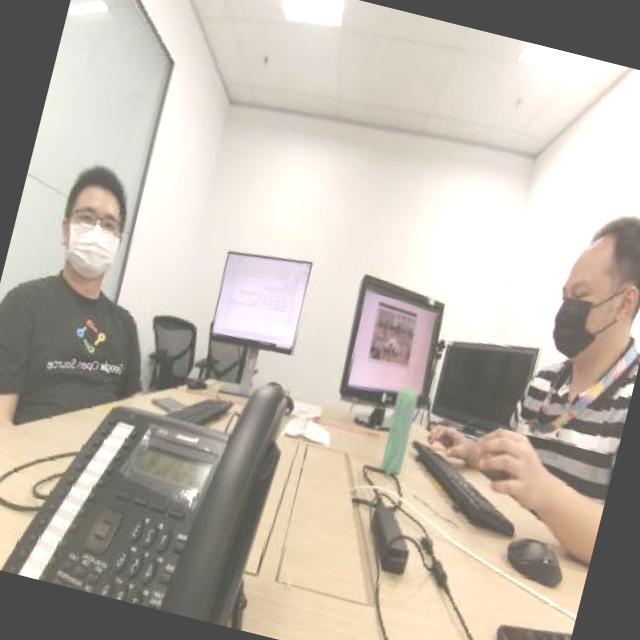Person: (0, 116, 191, 423), (497, 178, 640, 523)
